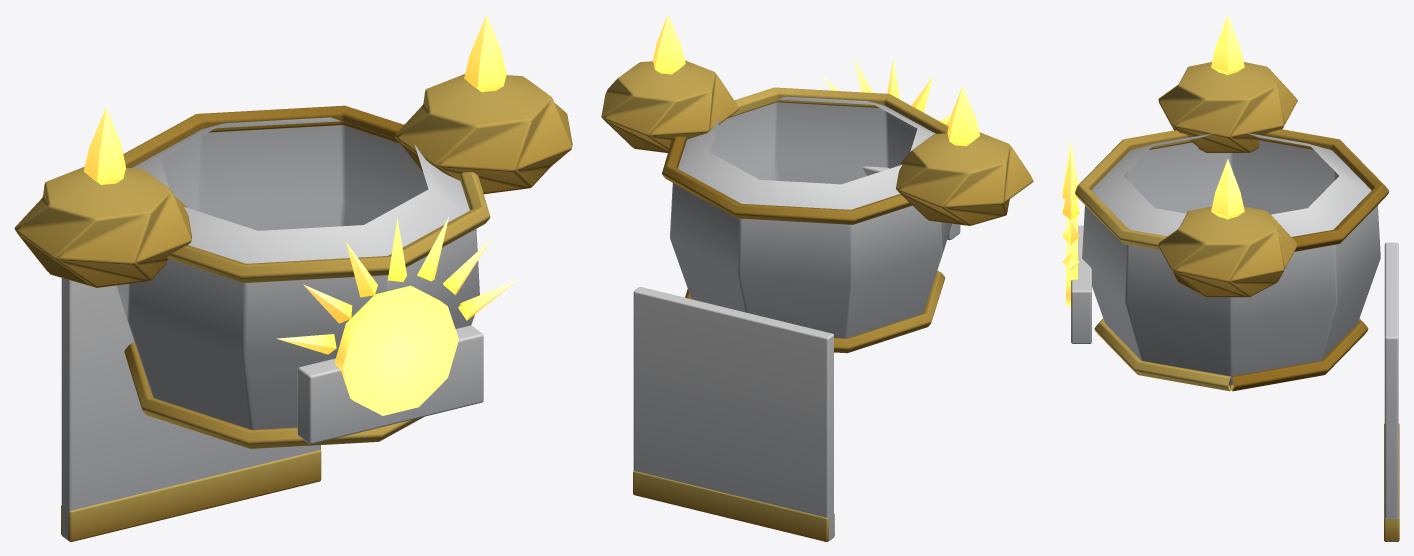
The model's file is lg_dawnkeeper_aegis.glb.
3 renders of one model, left to right at view 1: azimuth 30°, elevation 25°; view 2: azimuth 150°, elevation 25°; view 3: azimuth 270°, elevation 25°, orthographic. The views are drawn at different scales.
Visible parts, largest first — view 1: lg_dawnkeeper_aegis, lg_dawnkeeper_aegis_glow; view 2: lg_dawnkeeper_aegis, lg_dawnkeeper_aegis_glow; view 3: lg_dawnkeeper_aegis, lg_dawnkeeper_aegis_glow.
Boxes of the visible parts, x1,y1,x2,y2 form: lg_dawnkeeper_aegis: [14, 74, 572, 541]; lg_dawnkeeper_aegis_glow: [83, 14, 517, 415]; lg_dawnkeeper_aegis: [601, 60, 1033, 541]; lg_dawnkeeper_aegis_glow: [653, 14, 979, 146]; lg_dawnkeeper_aegis: [1071, 62, 1399, 541]; lg_dawnkeeper_aegis_glow: [1062, 14, 1244, 306].
Bounding box in the file's own units: 2.74 × 2.59 × 1.94.
